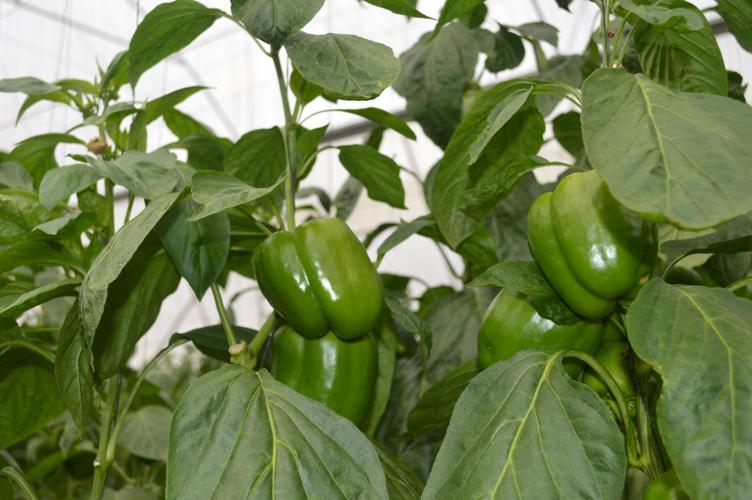BellPepper: (451, 280, 604, 421), (249, 217, 403, 348), (514, 180, 651, 319), (260, 321, 390, 465)
